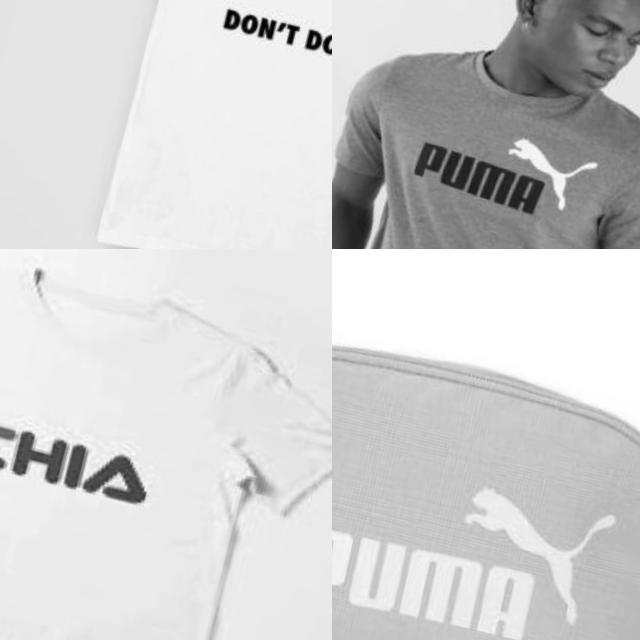FILA_fake: (0, 386, 177, 532)
NIKE_fake: (195, 0, 332, 98)
PUMA_original: (332, 421, 633, 640), (398, 95, 616, 246)
